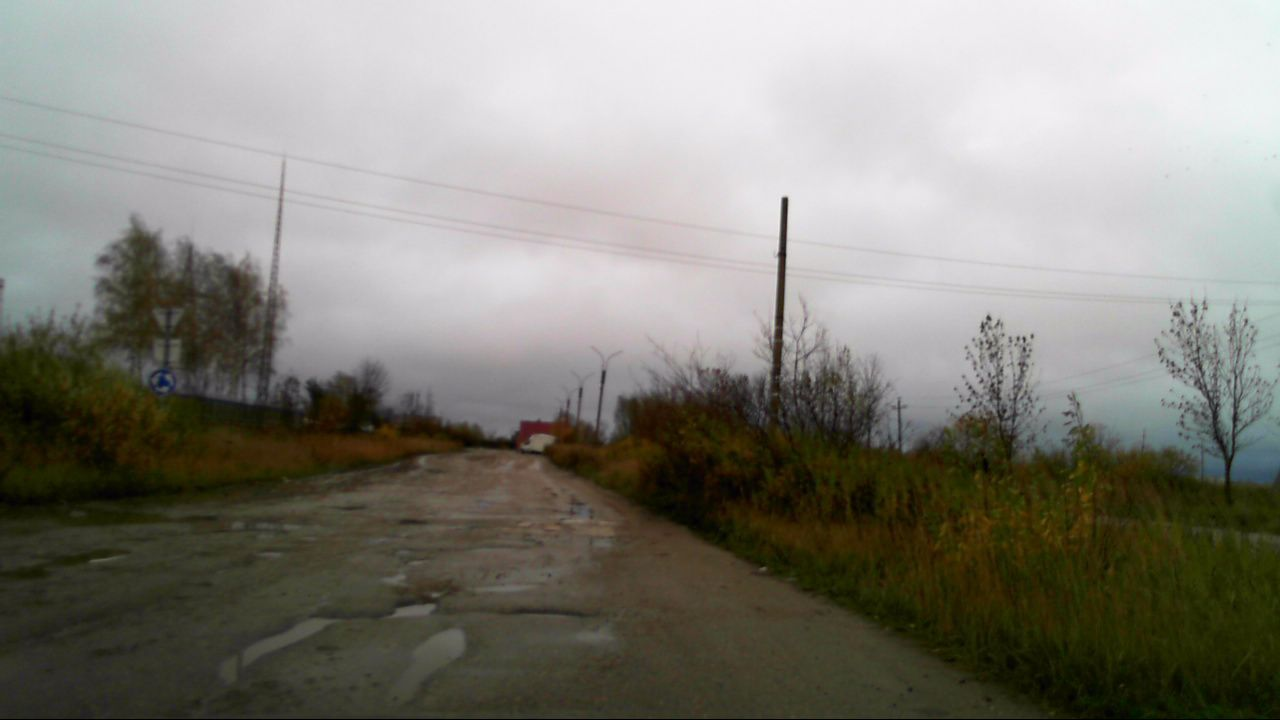Round-About: (147, 366, 178, 399)
